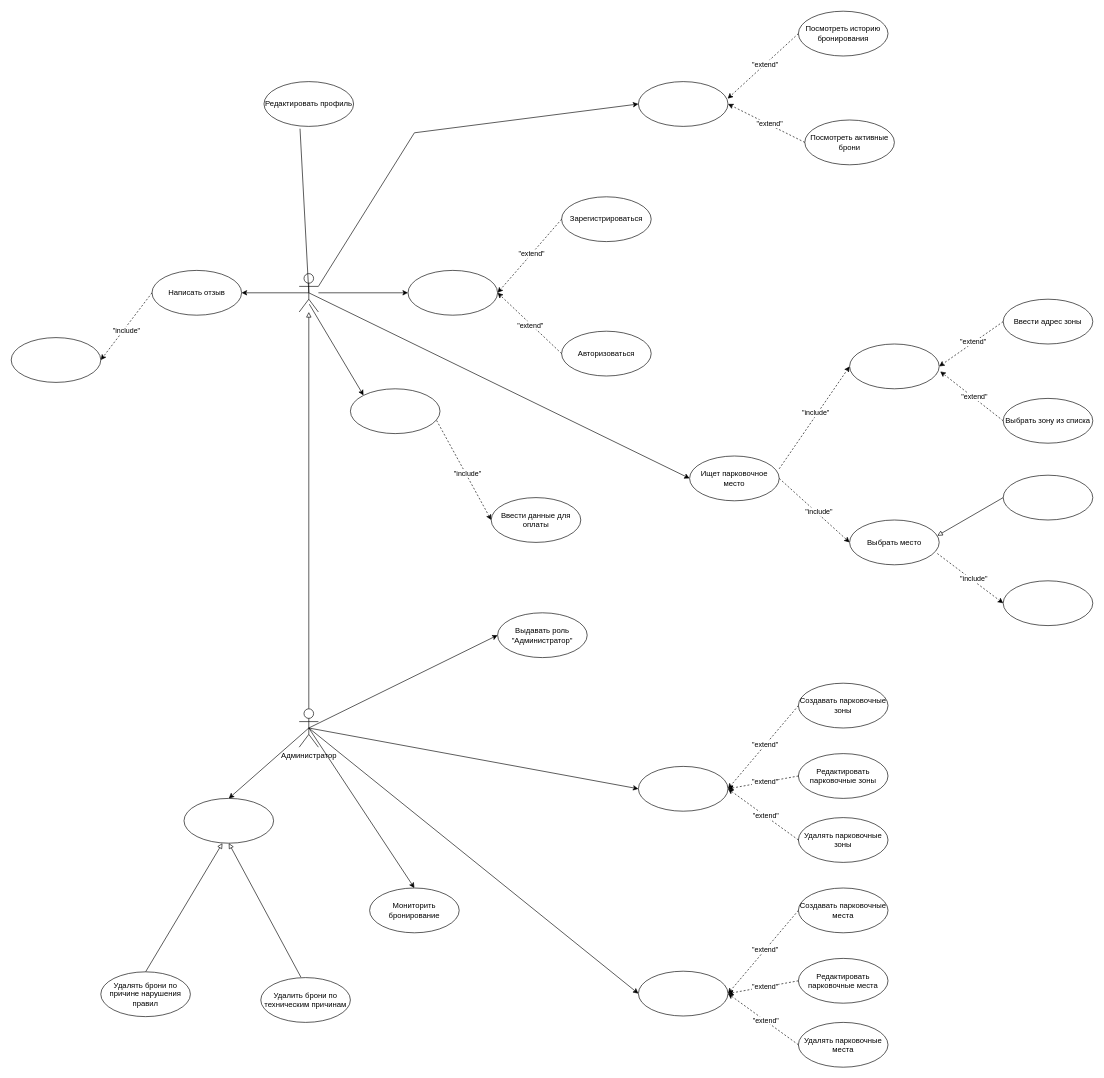
Image size: 1104x1078. Some labels were removed from this diagram. Here are the shapes that lost their labels. From the top down, the centre of each, then its label:
At (x=683, y=103): "Просмотреть профиль".
At (x=308, y=292): "Пользователь".
At (x=452, y=292): "Зайти в систему".
At (x=56, y=359): "Поставить рейтинг".
At (x=894, y=366): "Искать парковочные зоны".
At (x=395, y=411): "Произвести оплату".
At (x=1048, y=497): "Выбрать место применив фильтры".
At (x=1048, y=603): "Указать время брони".
At (x=683, y=788): "Управлять парковочными зонами".
At (x=228, y=820): "Удалять брони".
At (x=683, y=993): "Управлять парковочными местами".
